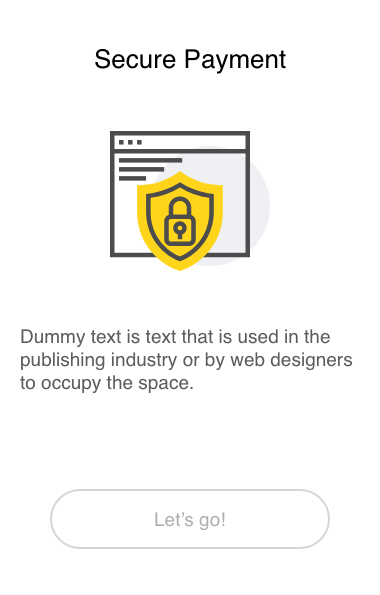Image: (110, 131, 271, 272)
Text: (20, 329, 353, 394), (95, 49, 287, 75)
TextButton: (50, 489, 331, 550)
